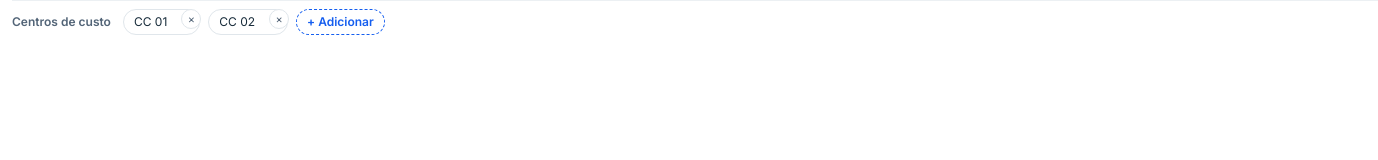
Scenario: balões simples da apresentação › keeps hidden centers visible, reversible and distinct from selected inclusion
This screenshot has width=1378, height=160.
Click the button with aria-label "Ocultar centro de custo CC 01". click: click(152, 22)
box: [124,10,179,34]
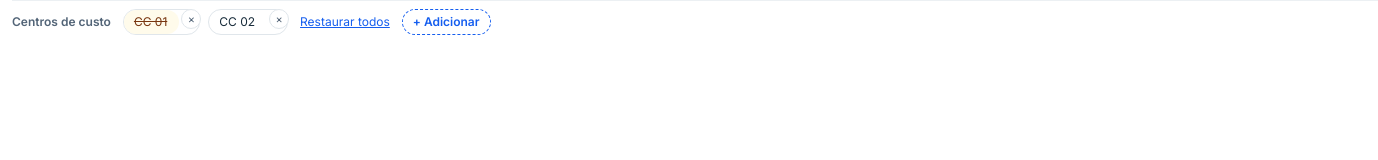
Expected: the button with aria-label "Restaurar centro de custo CC 01" is pressed
Click the button with aria-label "Restaurar centro de custo CC 01". click: click(152, 22)
box: [124,10,179,34]
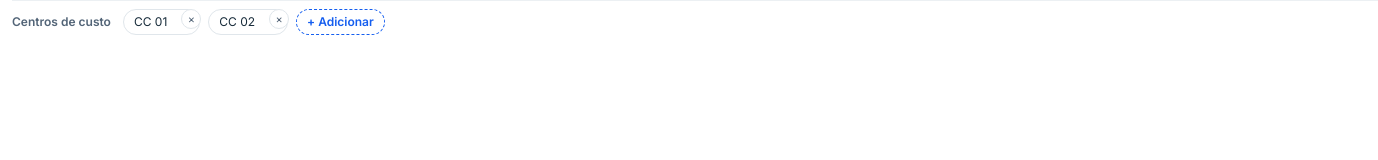
Expected: the button with aria-label "Ocultar centro de custo CC 01" is shown, [124,10,179,34]
